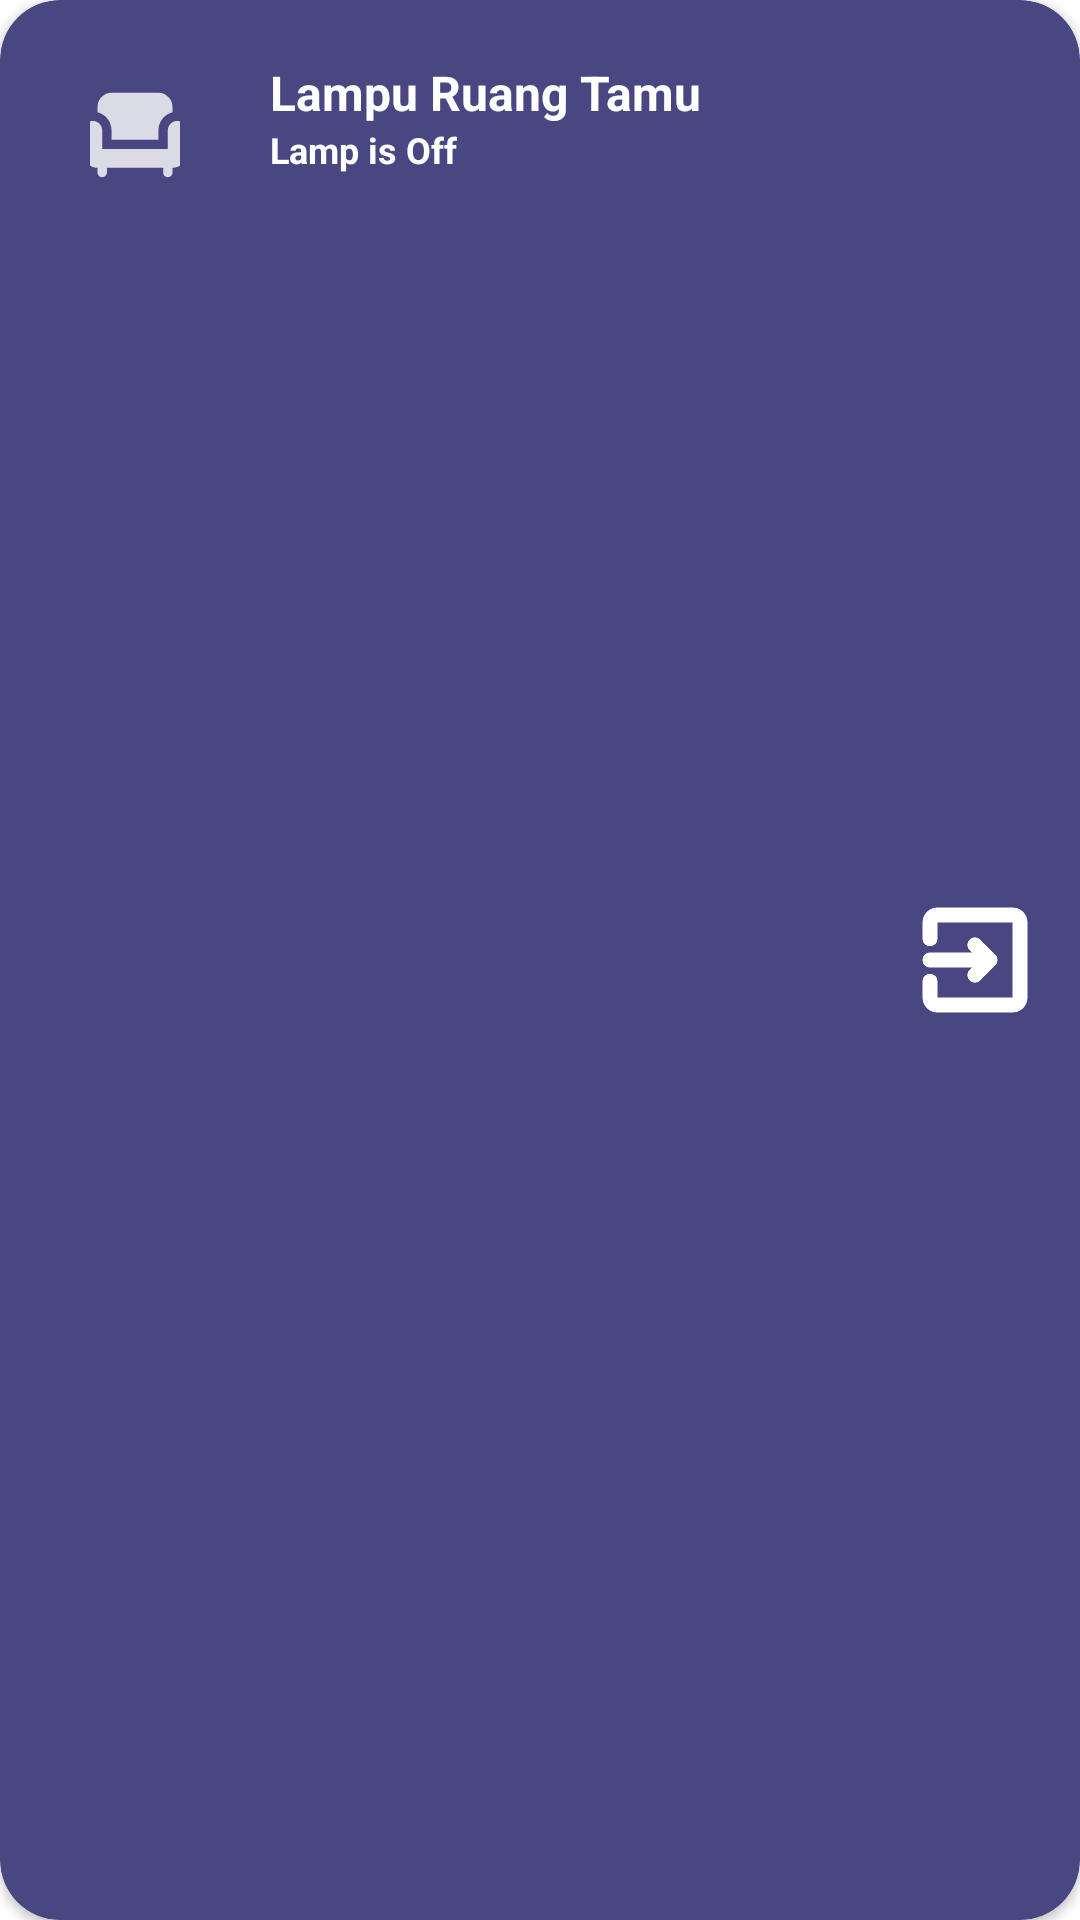

Icon bounding boxes for this 1080px x 1920px phone screenshot, format bbox(x1, y1, x2, y2):
shofabaru: bbox(90, 92, 180, 178)
